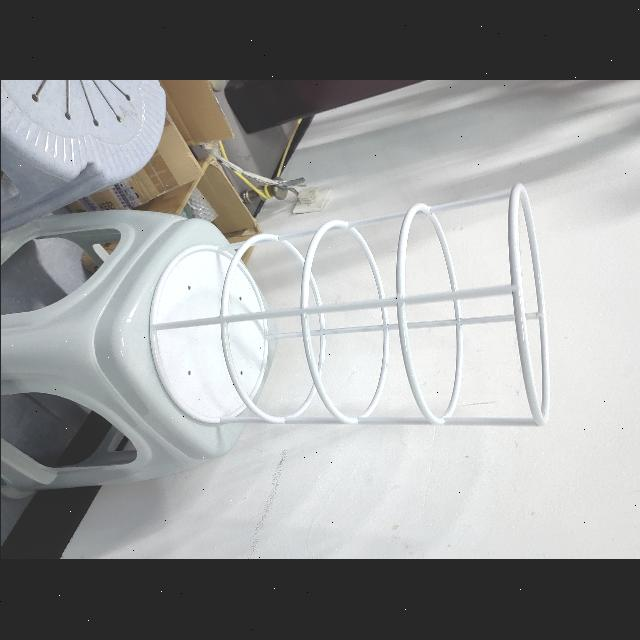S: (144, 179, 558, 435)
